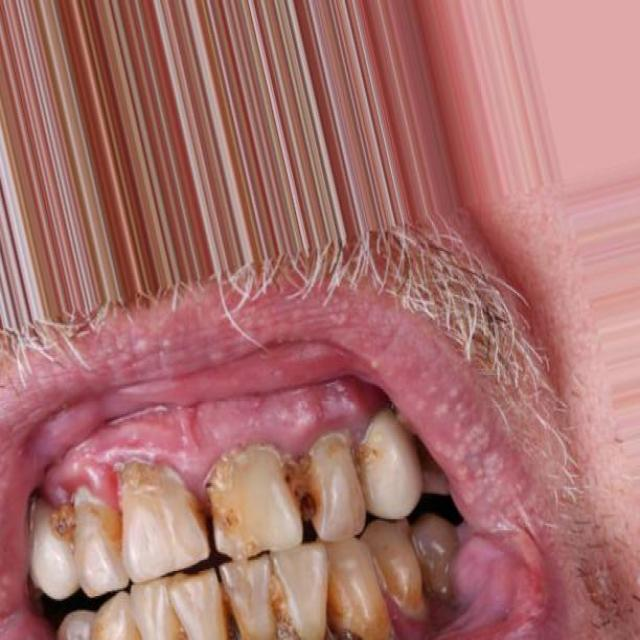caries: (274, 447, 335, 534), (39, 492, 85, 562)
